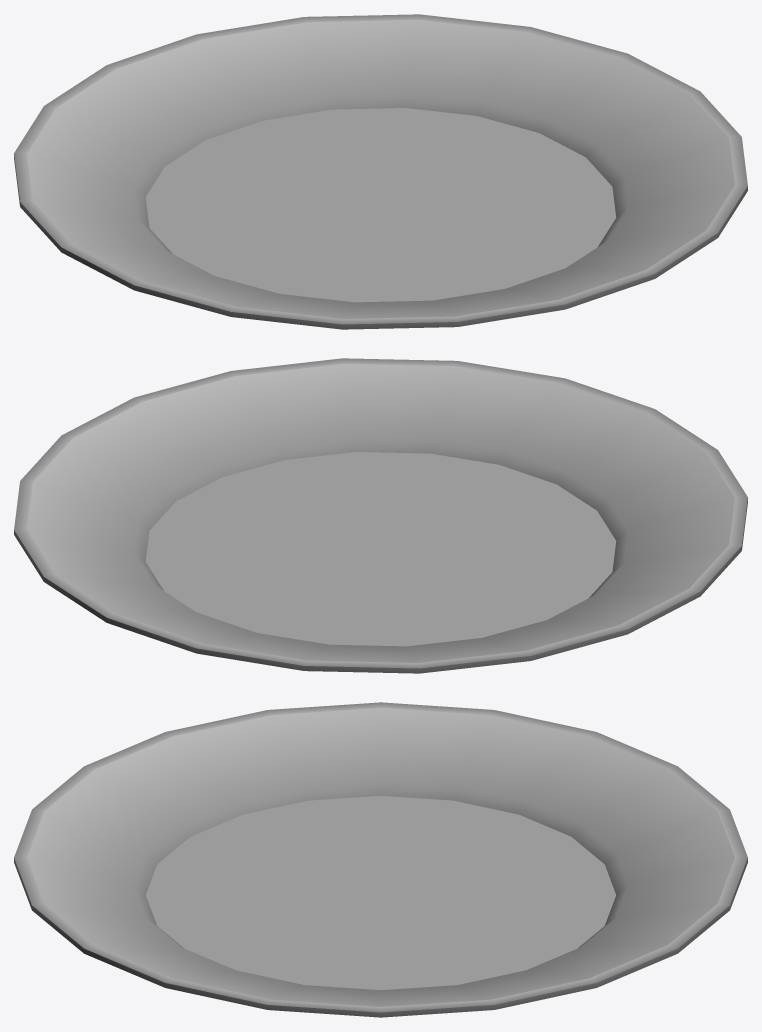
File: plate.fbx
The picture shows the model from 3 angles, top to bottom: view 1: azimuth 30°, elevation 25°; view 2: azimuth 150°, elevation 25°; view 3: azimuth 270°, elevation 25°; orthographic projection.
Visible parts, largest first — view 1: plate; view 2: plate; view 3: plate.
Boxes of the visible parts, <box> form: plate: <box>14,14,747,329</box>; plate: <box>14,358,747,673</box>; plate: <box>14,702,747,1017</box>.
Bounding box in the file's own units: 0.3658 × 0.0273 × 0.3658.
